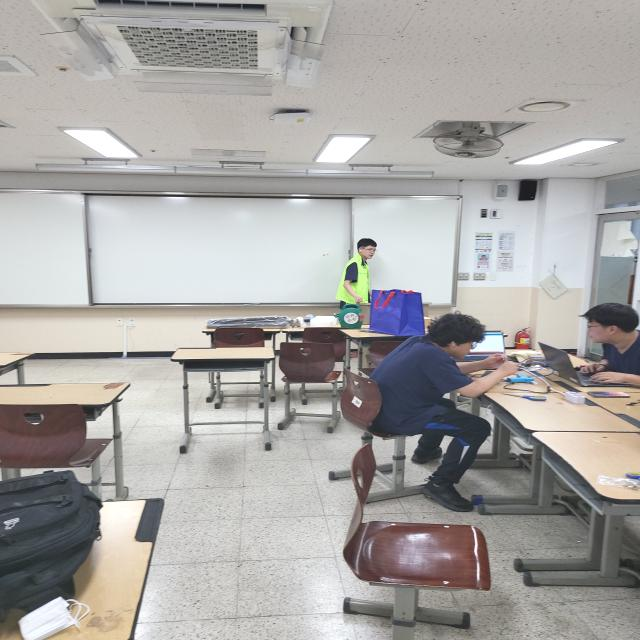weston_spy: (331, 249, 382, 309)
